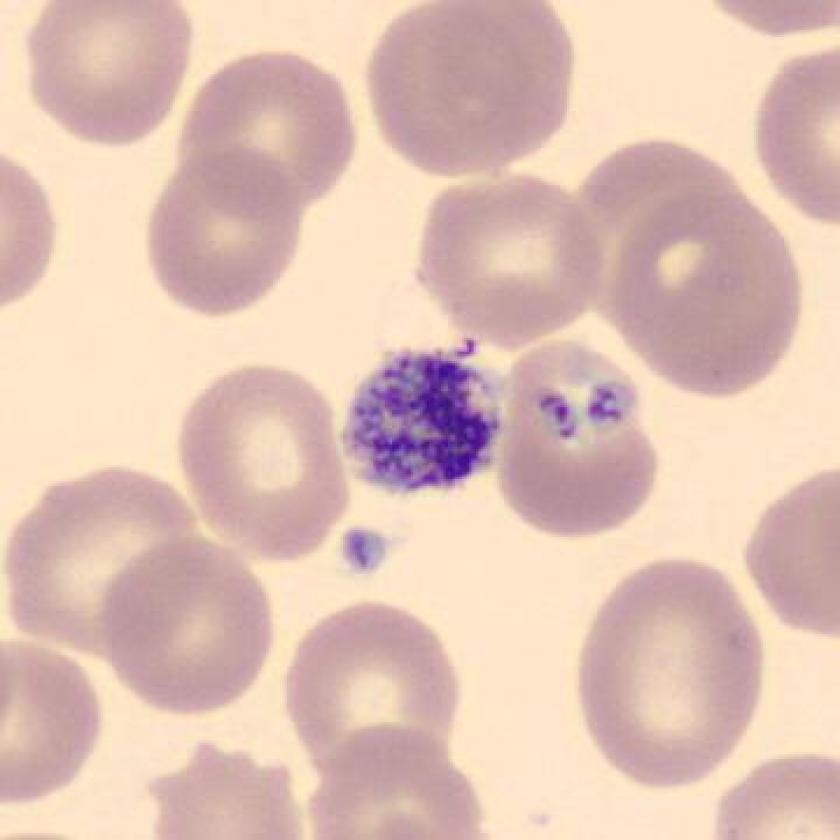platelets: (335, 344, 505, 490), (536, 365, 648, 453), (335, 517, 398, 586)
